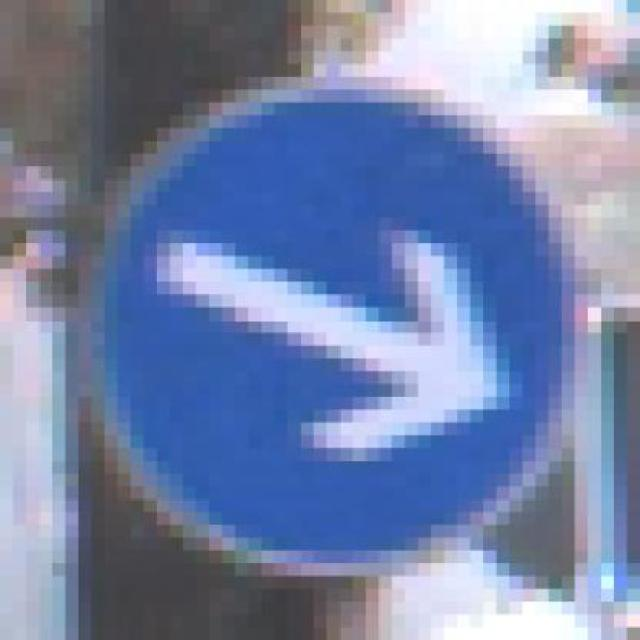Keep-Right: (52, 77, 600, 589)
